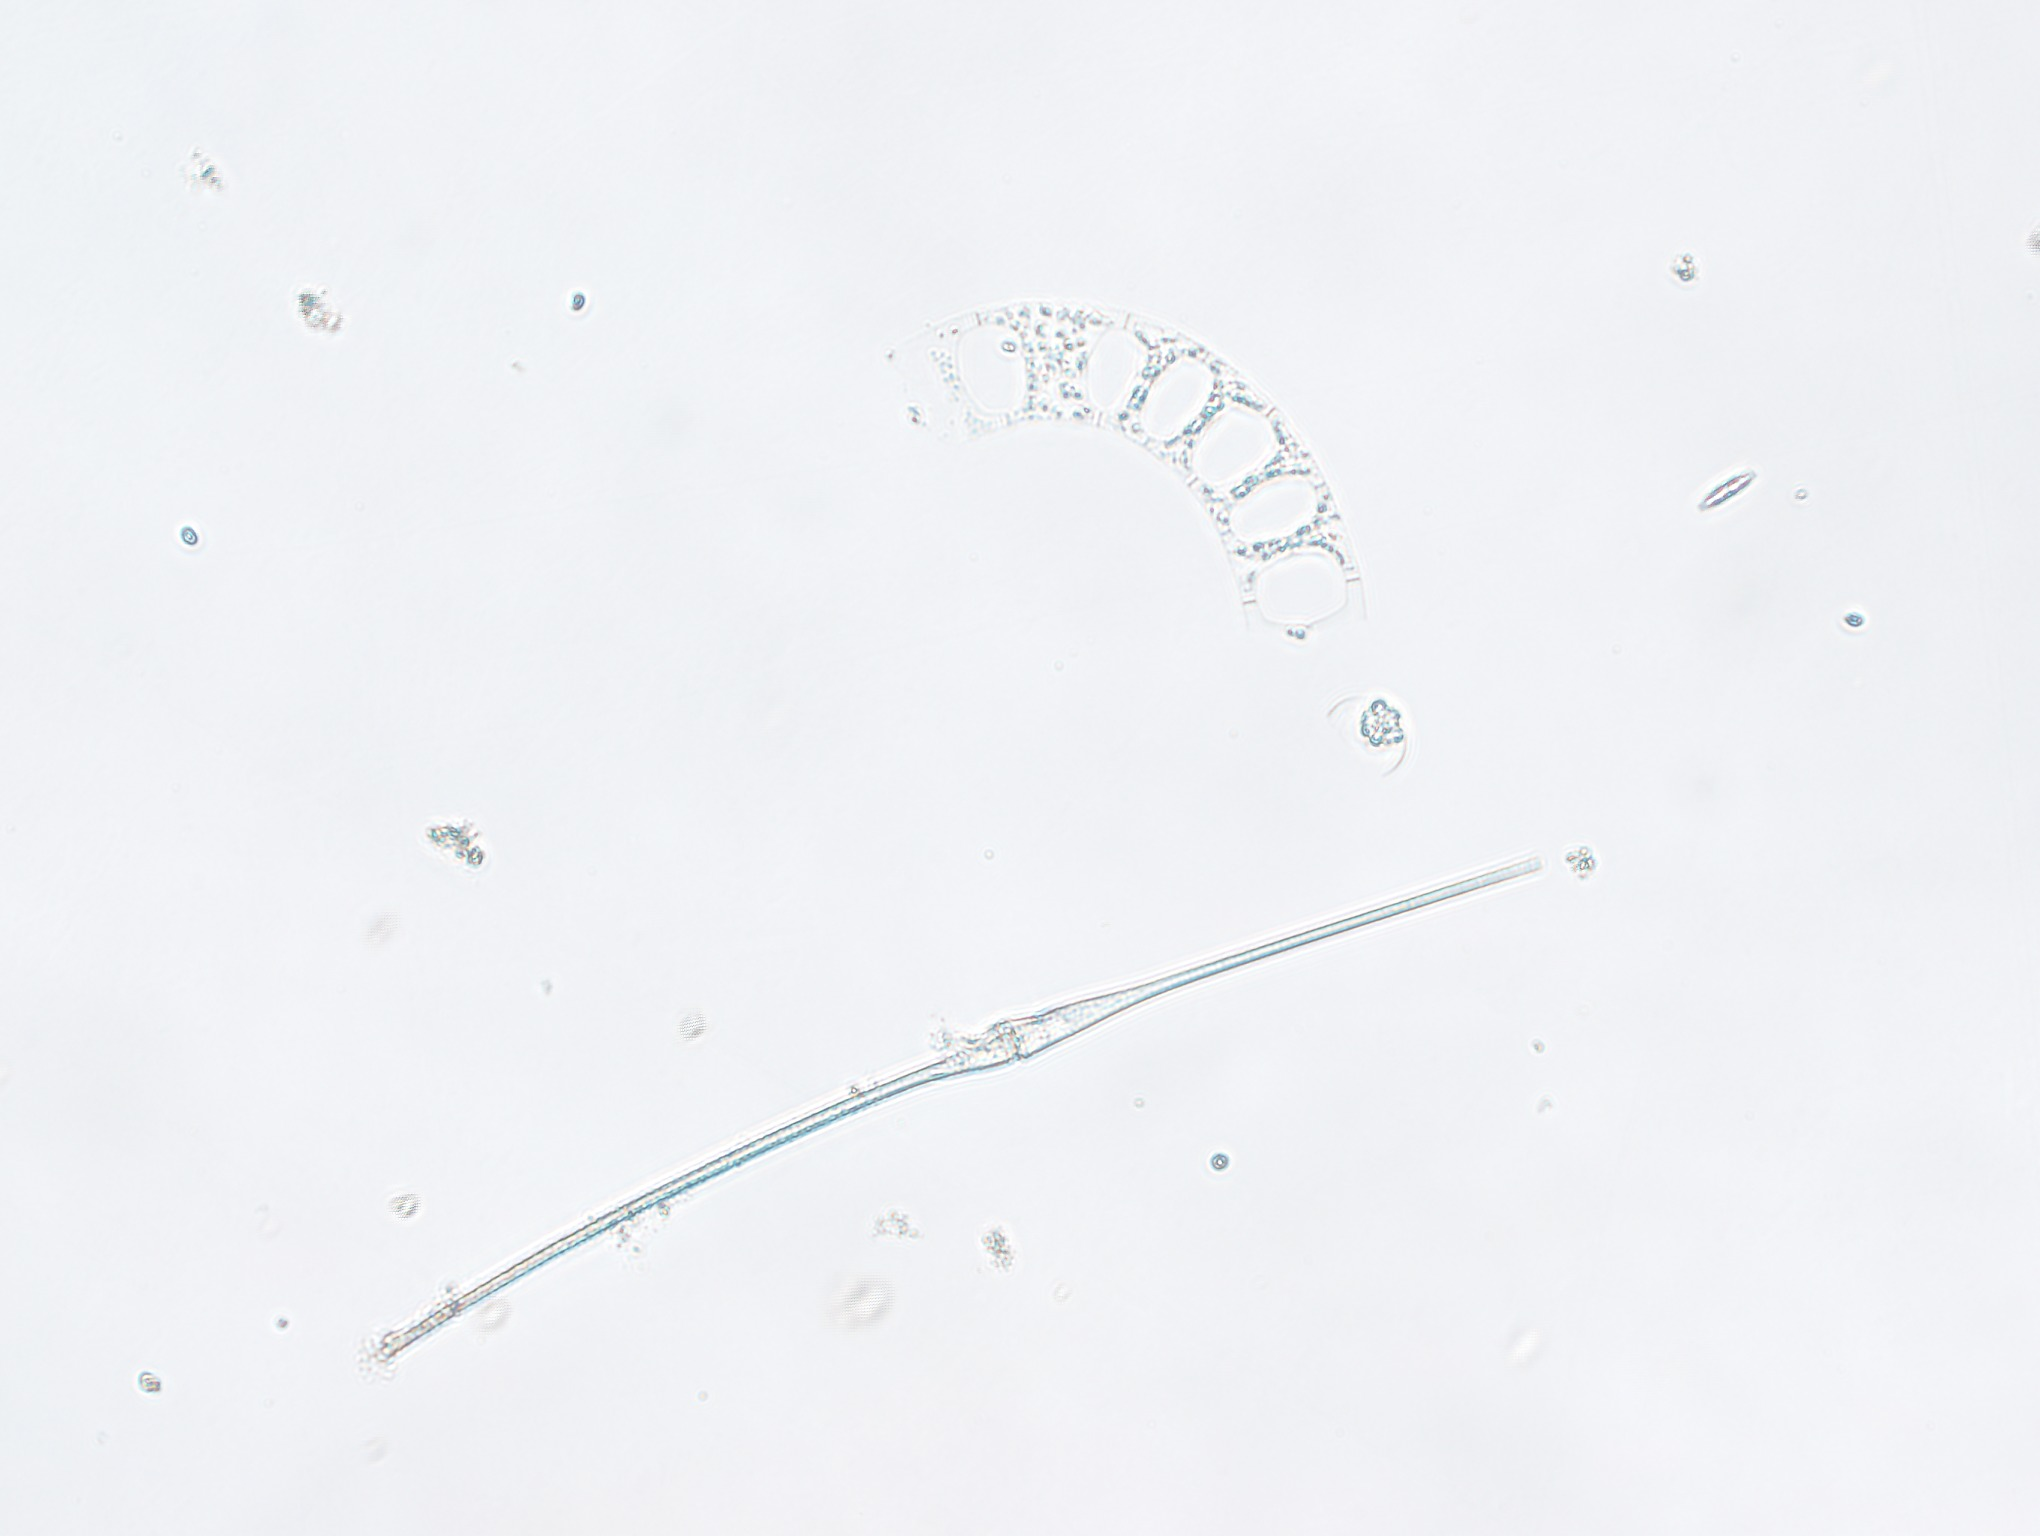ceratium fusus: (360, 847, 1563, 1371)
eucampia: (868, 274, 1395, 681)
